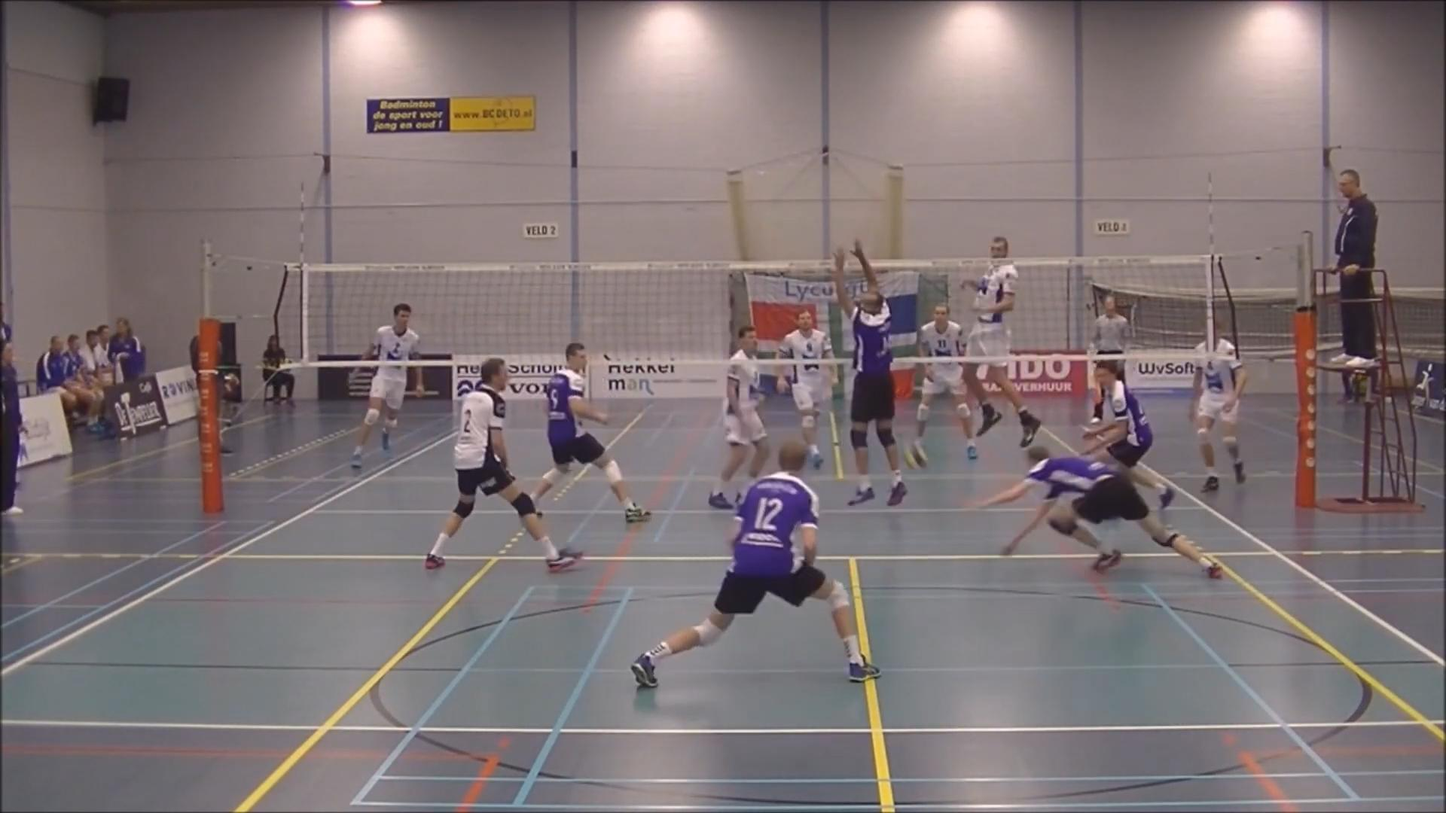Attack: (951, 227, 1059, 455)
Block: (817, 237, 915, 511)
Dig: (951, 436, 1234, 578)
Player: (631, 439, 879, 687), (425, 358, 581, 572), (532, 343, 650, 522), (1084, 361, 1174, 508), (351, 303, 419, 468), (708, 326, 768, 509), (1193, 322, 1247, 492), (777, 310, 833, 468), (905, 361, 977, 467)
